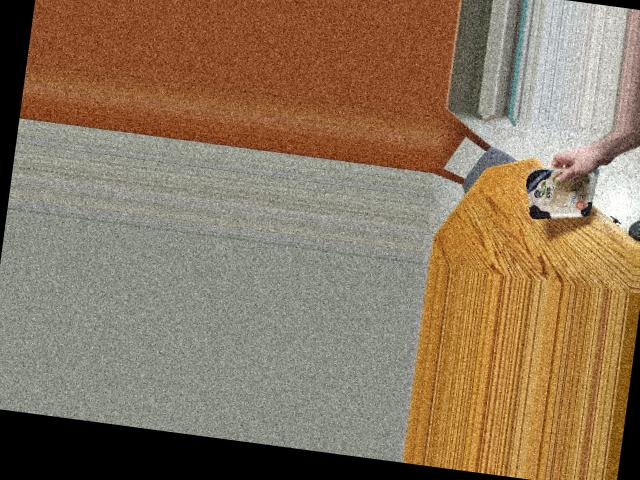cheese: (519, 161, 613, 226)
